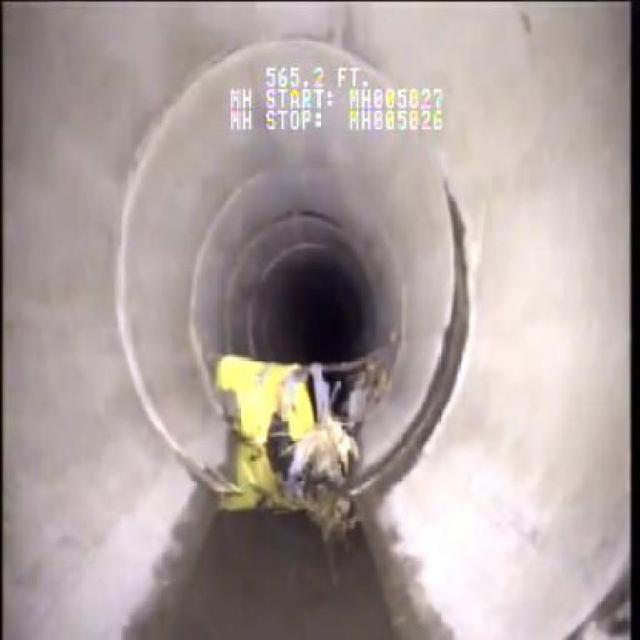Obstacle: (200, 332, 374, 500)
